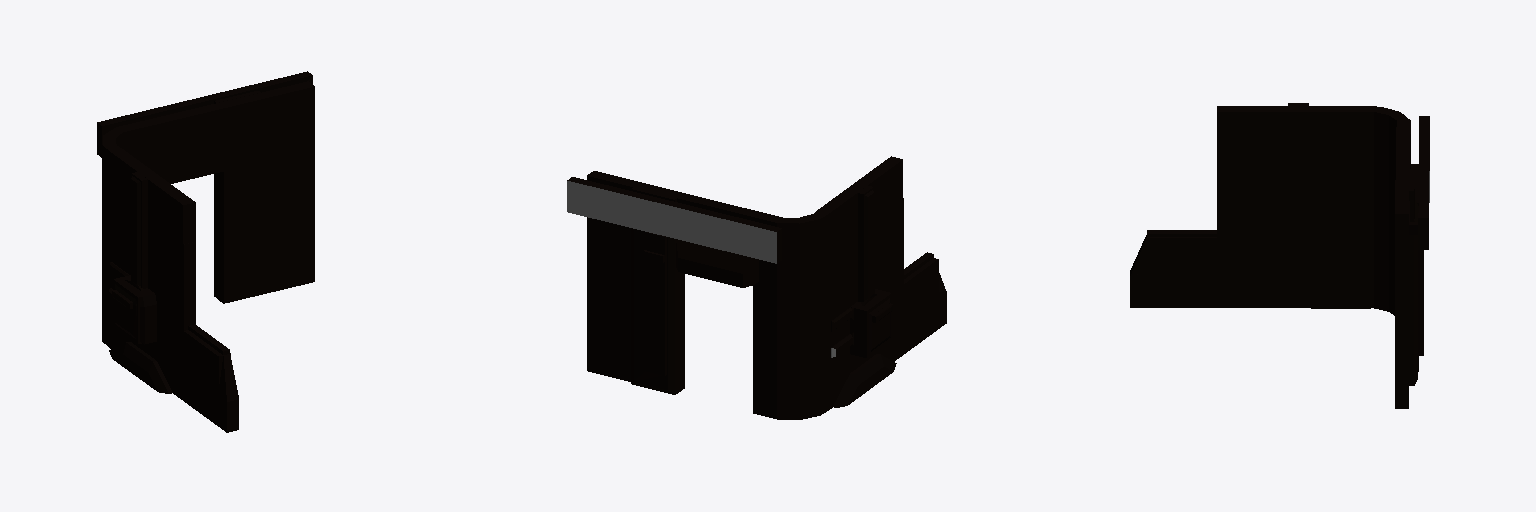
File: maa5.obj
The picture shows the model from 3 angles: view 1: azimuth 30°, elevation 25°; view 2: azimuth 150°, elevation 25°; view 3: azimuth 270°, elevation 25°; orthographic projection.
Parts seen in each view (by area): view 1: pCube4; view 2: pCube4; view 3: pCube4.
Part boxes in pixels (x1,y1,x2,y2): pCube4: (97, 71, 314, 432); pCube4: (567, 156, 946, 419); pCube4: (1130, 103, 1429, 408).
Bounding box in the file's own units: 2.42 × 1.81 × 2.48.